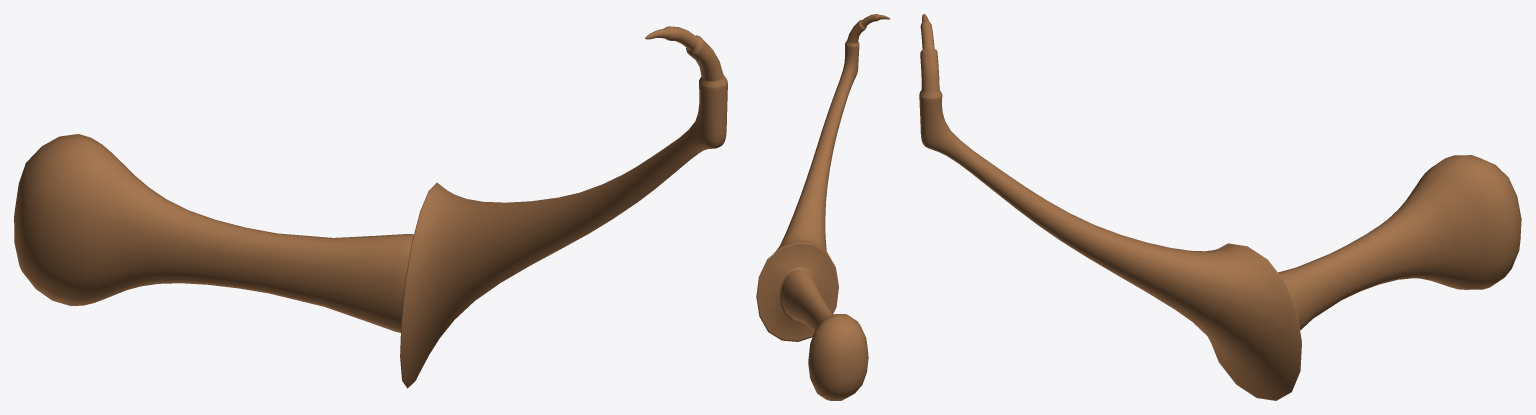
Rendered from Bug Stepper (Boneless).fbx.
The picture shows the model from 3 angles, left to right: view 1: azimuth 30°, elevation 25°; view 2: azimuth 150°, elevation 25°; view 3: azimuth 270°, elevation 25°; orthographic projection. The views are drawn at different scales.
Parts seen in each view (by area): view 1: Bug Stepper - 0etsch; view 2: Bug Stepper - 0etsch; view 3: Bug Stepper - 0etsch.
Part boxes in pixels (<box>): Bug Stepper - 0etsch: <box>14,26,727,388</box>; Bug Stepper - 0etsch: <box>756,14,890,400</box>; Bug Stepper - 0etsch: <box>919,14,1521,400</box>.
Bounding box in the file's own units: 99.76 × 126 × 174.
